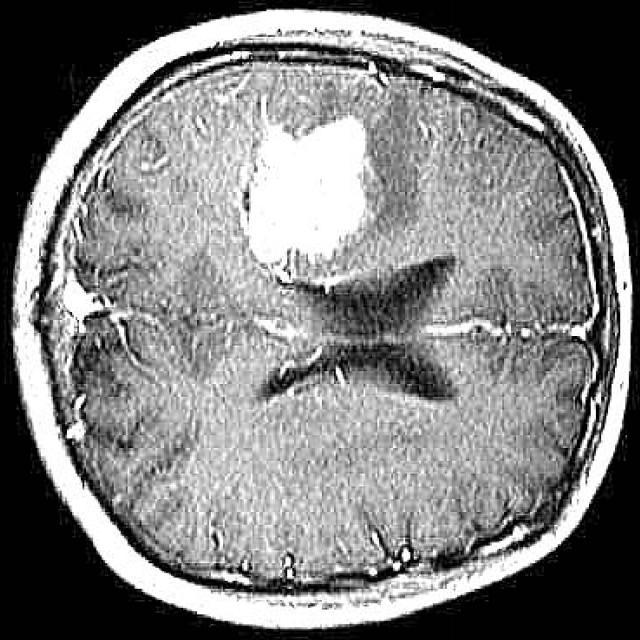tumor: (243, 117, 373, 264)
